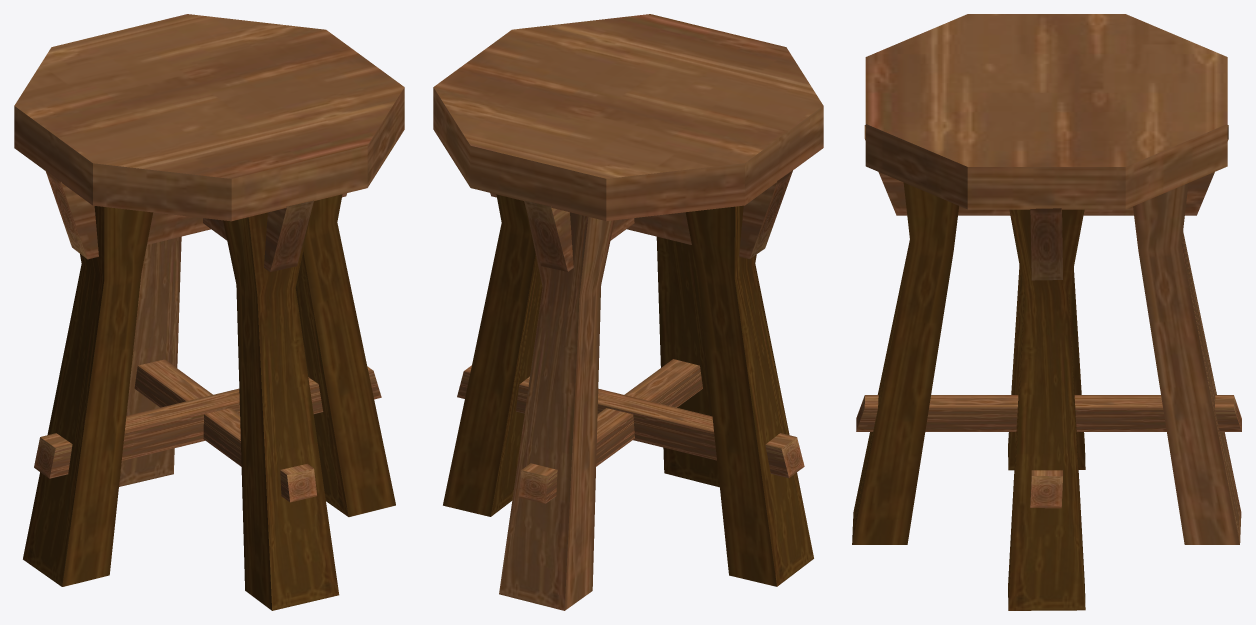
Rendered from stool.glb.
3 views of the same model, side by side, from view 1: azimuth 30°, elevation 25°; view 2: azimuth 150°, elevation 25°; view 3: azimuth 270°, elevation 25° (orthographic).
Parts seen in each view (by area): view 1: Stool; view 2: Stool; view 3: Stool.
Boxes of the visible parts, bbox=[...] form: Stool: bbox=[14, 14, 404, 610]; Stool: bbox=[433, 14, 823, 610]; Stool: bbox=[852, 14, 1241, 610].
Size of the model in its own units: 0.4746 by 0.5887 by 0.4746.
1 material, 1 textured.
